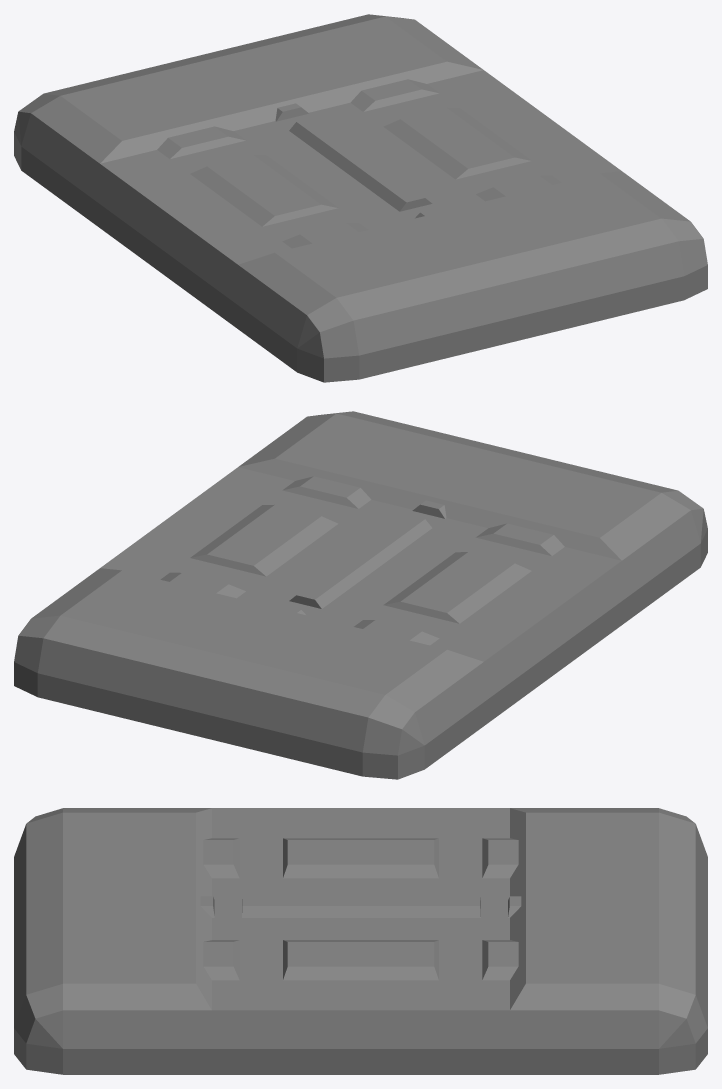
Rendered from prop_3.FBX.
3 views of the same model, one above another, from view 1: azimuth 30°, elevation 25°; view 2: azimuth 150°, elevation 25°; view 3: azimuth 270°, elevation 25° (orthographic). The views are drawn at different scales.
Parts seen in each view (by area): view 1: prop_3; view 2: prop_3; view 3: prop_3.
Part boxes in pixels (x1,y1,x2,y2): prop_3: (14, 14, 707, 382); prop_3: (14, 411, 707, 779); prop_3: (14, 808, 707, 1074).
Bounding box in the file's own units: 25.05 × 3.87 × 34.56.
